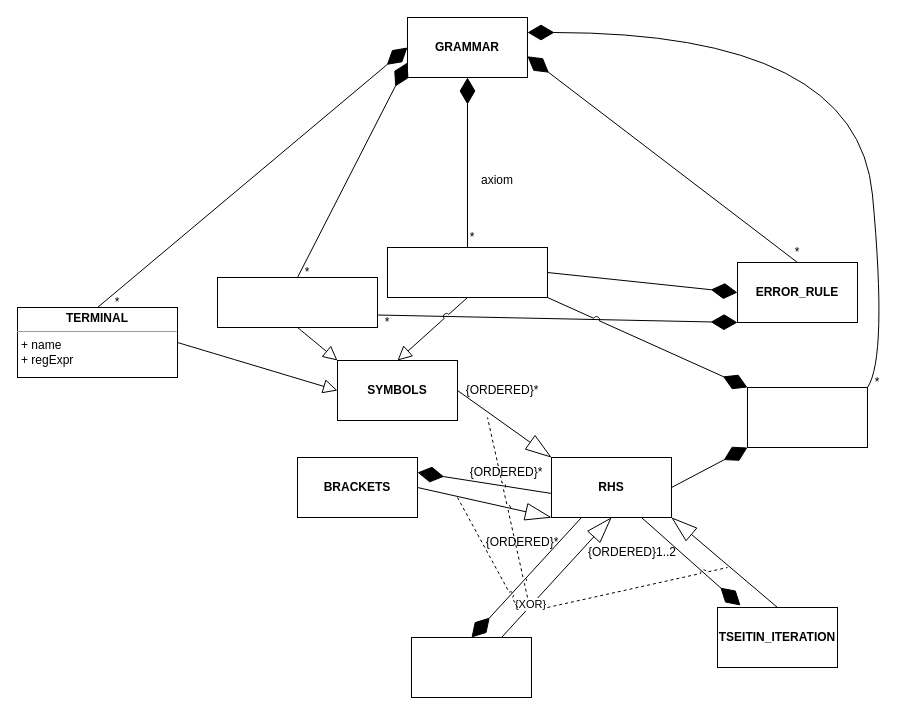
Some shapes in this 905 by 715 pixel diagram are drawn without their labels. Each missing label, with the centre of its shape:
"KEY + string" belongs at point 297,302.
"NONTERMINAL + name" belongs at point 467,272.
"OPTIONAL" belongs at point 471,667.
"RULE" belongs at point 807,417.
